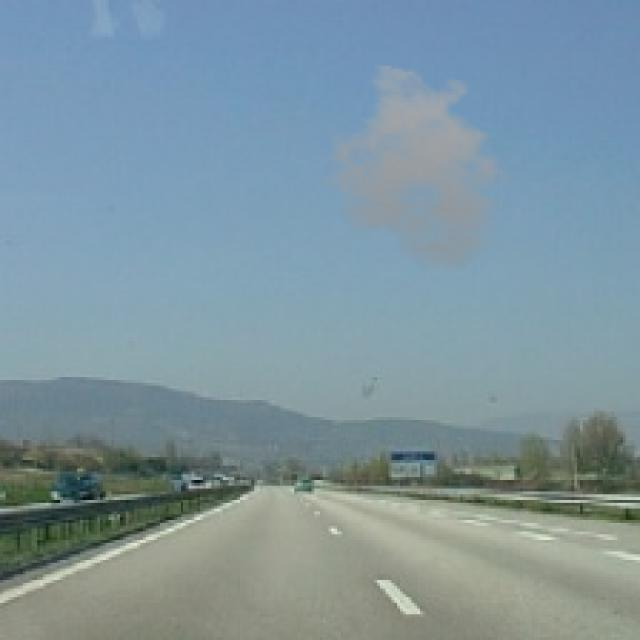Smoke: (320, 62, 523, 272)
